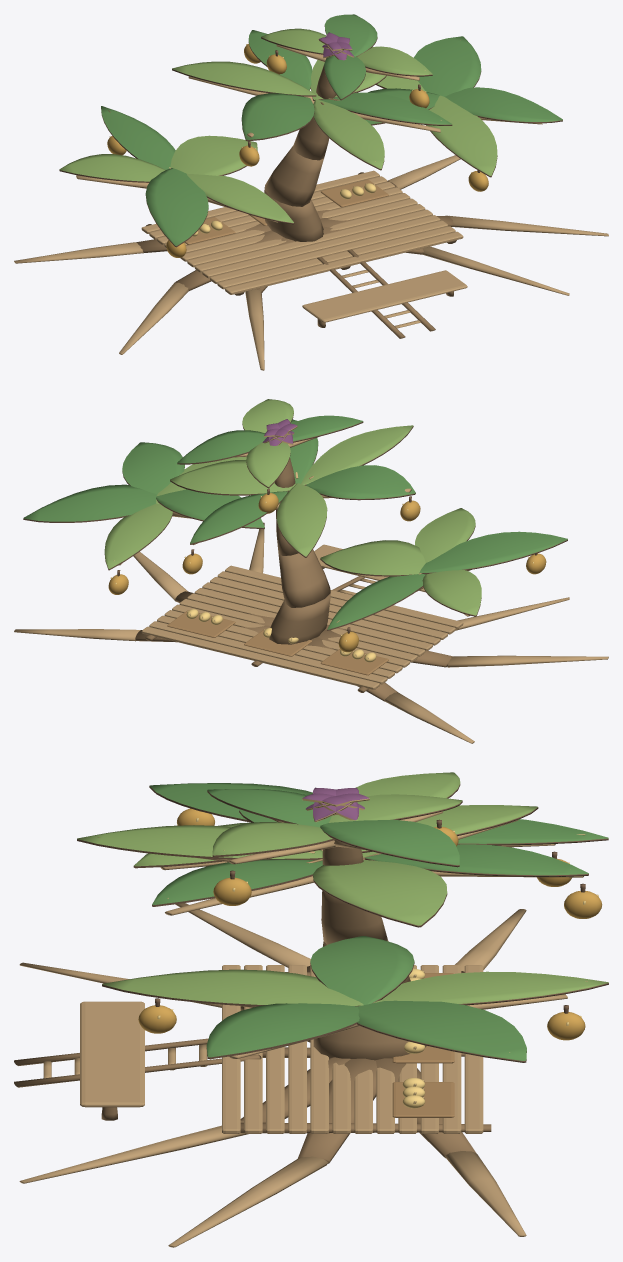
The model's file is verdant_nursery.glb.
3 renders of one model, top to bottom at view 1: azimuth 30°, elevation 25°; view 2: azimuth 150°, elevation 25°; view 3: azimuth 270°, elevation 25°, orthographic. The views are drawn at different scales.
Parts seen in each view (by area): view 1: Verdant Growth Nursery; view 2: Verdant Growth Nursery; view 3: Verdant Growth Nursery.
Part boxes in pixels (x1,y1,x2,y2): Verdant Growth Nursery: (14,14,608,370); Verdant Growth Nursery: (14,399,608,743); Verdant Growth Nursery: (14,772,608,1247).
Size of the model in its own units: 23.26 by 9.44 by 16.84.
